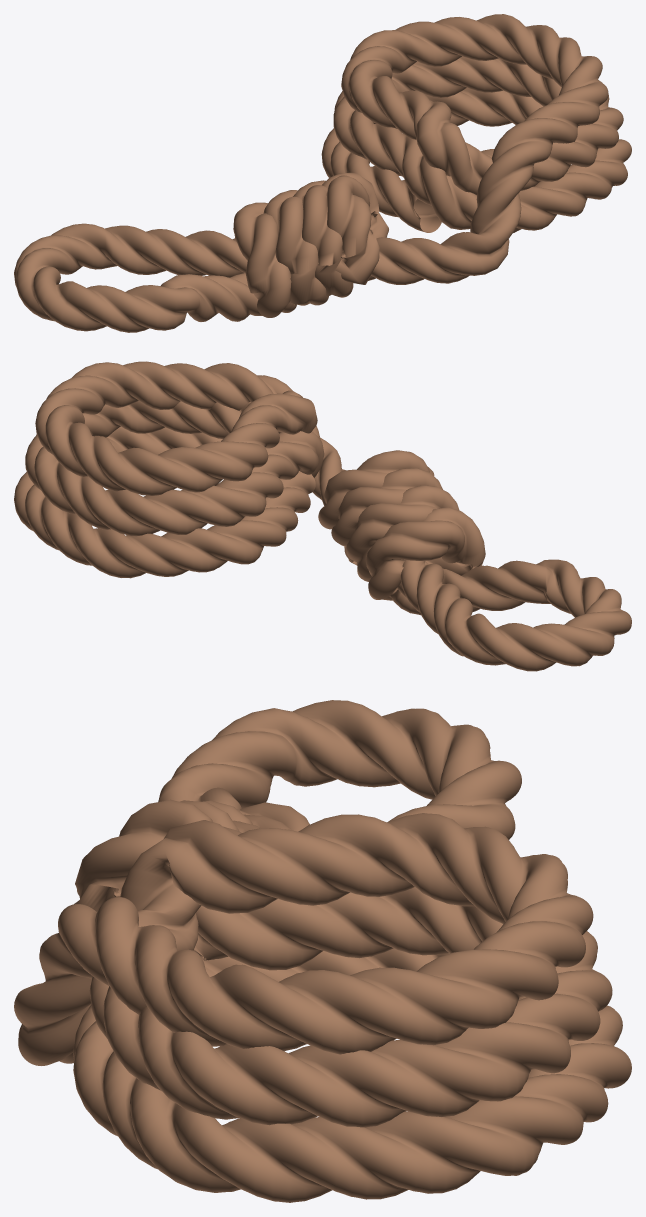
The model's file is rope.fbx.
3 views of the same model, one above another, from view 1: azimuth 30°, elevation 25°; view 2: azimuth 150°, elevation 25°; view 3: azimuth 270°, elevation 25° (orthographic). The views are drawn at different scales.
Visible parts, largest first — view 1: corda; view 2: corda; view 3: corda.
Boxes of the visible parts, <box> form: corda: <box>14,14,631,332</box>; corda: <box>14,361,631,671</box>; corda: <box>14,700,631,1202</box>.
Size of the model in its own units: 511 by 147 by 263.
